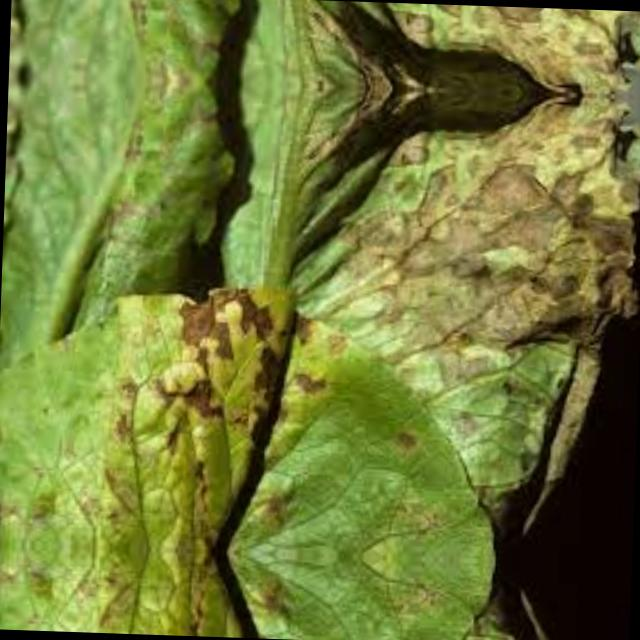Downy_mildew: (14, 272, 487, 560), (290, 85, 640, 443), (11, 543, 477, 640), (302, 0, 640, 95)
